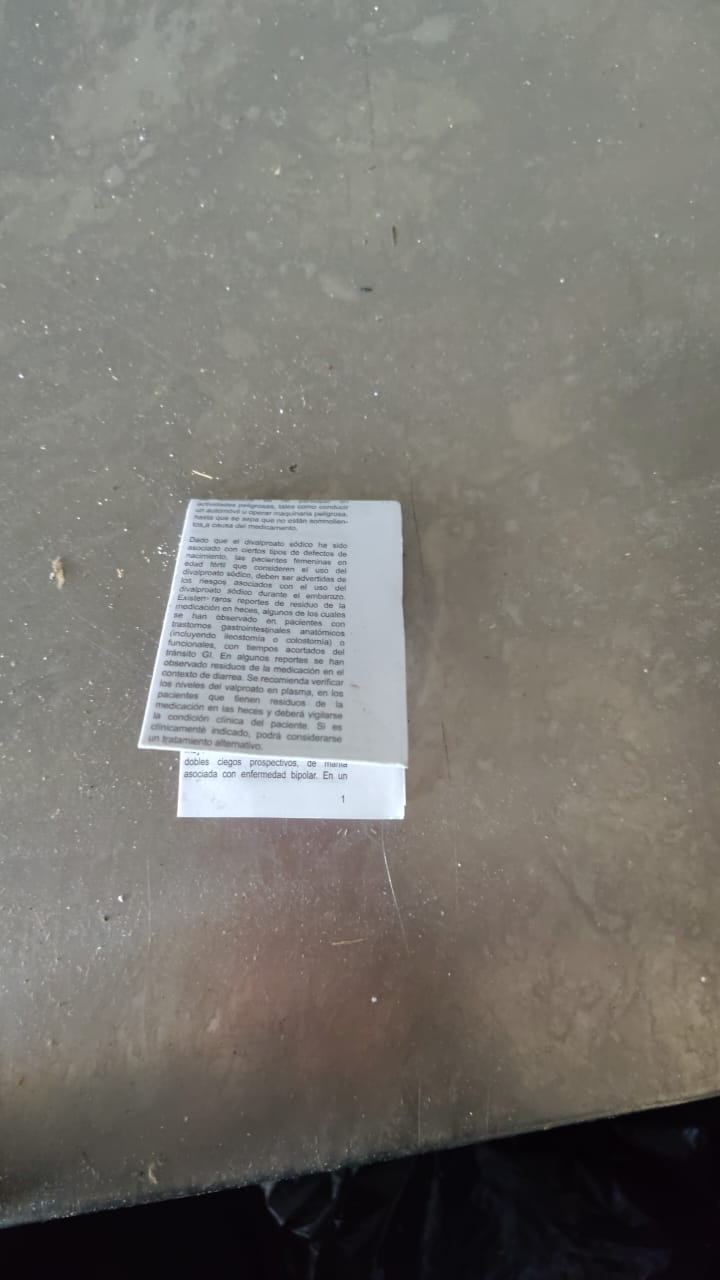Papel: (134, 498, 409, 819)
